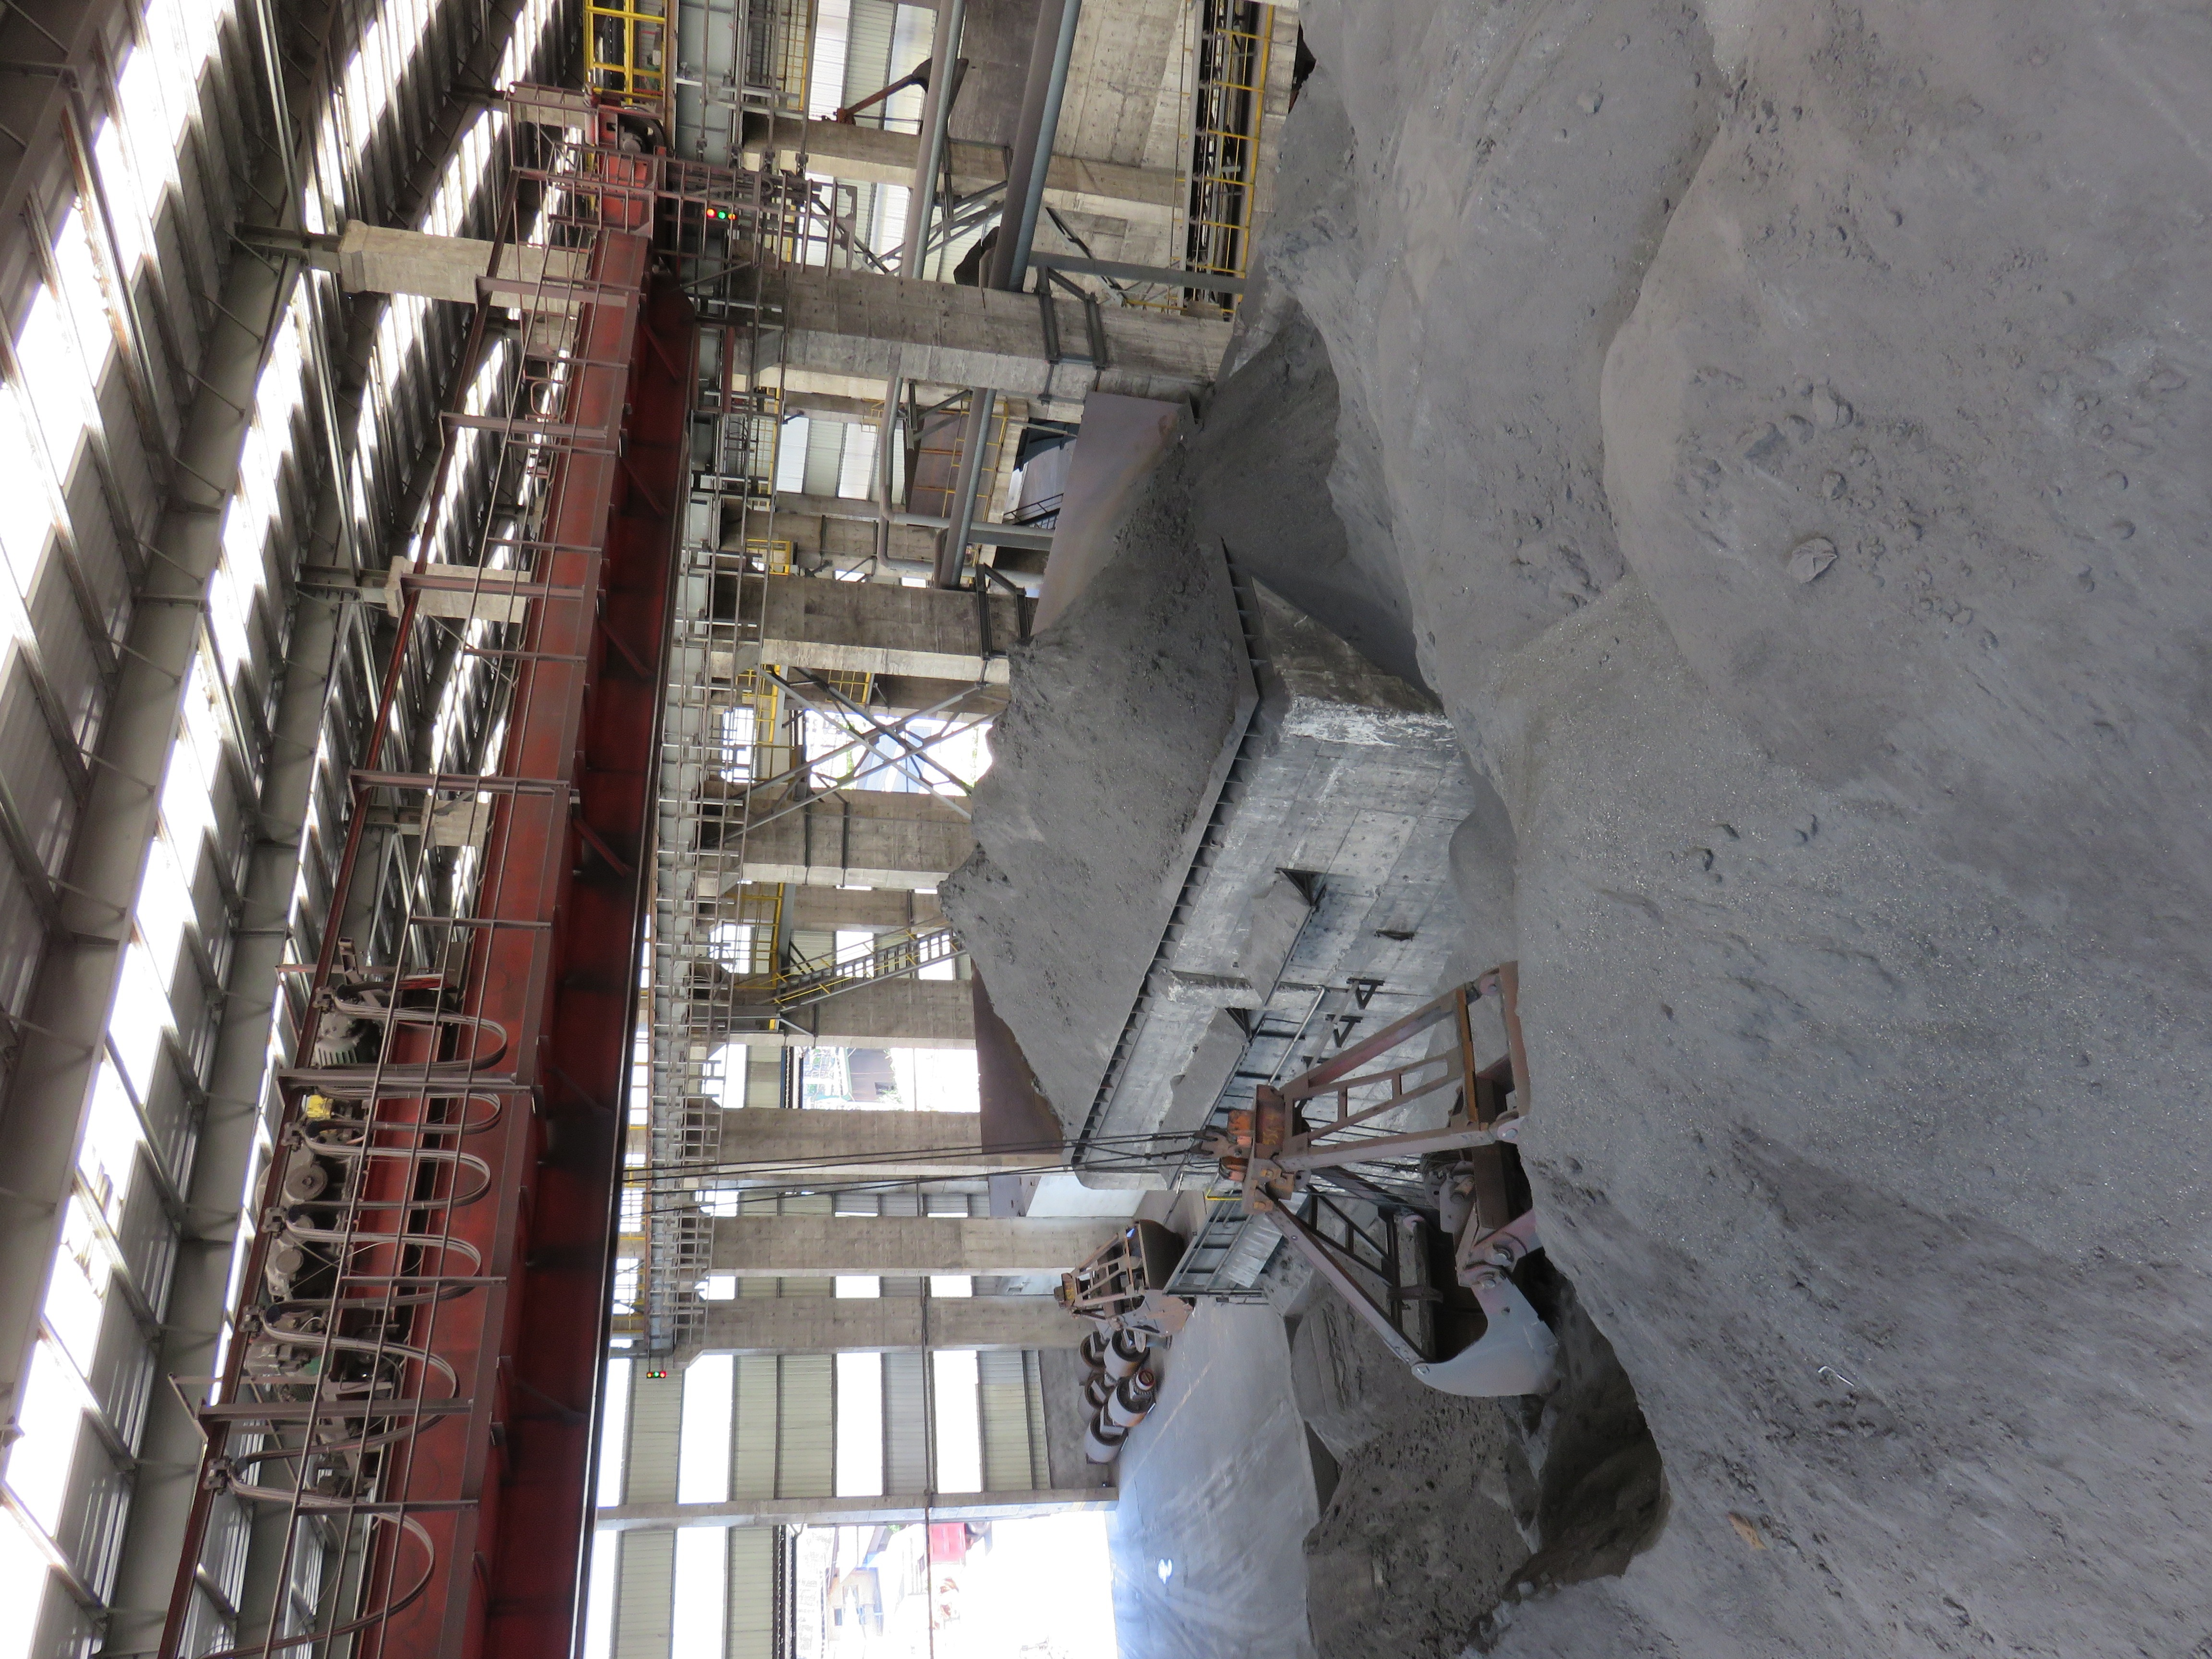grab: (1165, 955, 1590, 1412), (1050, 1204, 1177, 1328)
